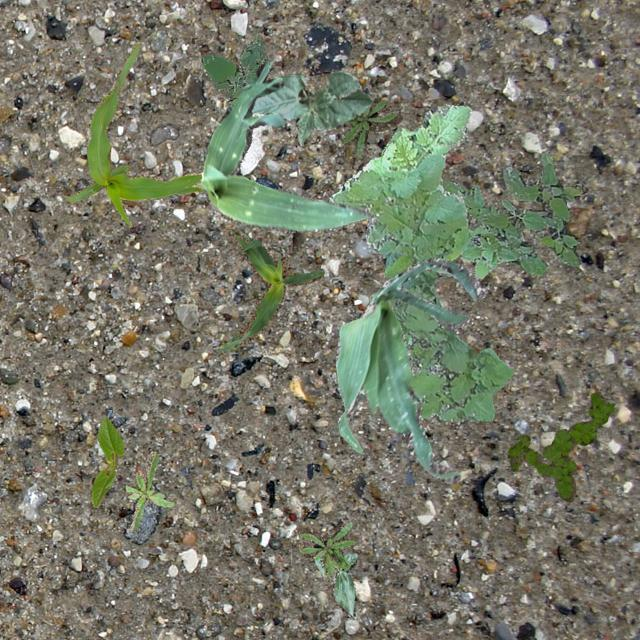crop: (334, 256, 484, 482), (200, 61, 370, 230), (64, 41, 202, 226), (216, 228, 322, 354), (250, 68, 372, 144), (354, 332, 412, 399), (90, 414, 122, 506), (314, 552, 358, 616)
weed: (328, 104, 512, 422), (441, 150, 584, 278), (506, 392, 614, 501), (124, 450, 174, 530), (341, 96, 402, 156), (296, 520, 356, 578), (200, 32, 266, 82), (212, 38, 260, 106)
